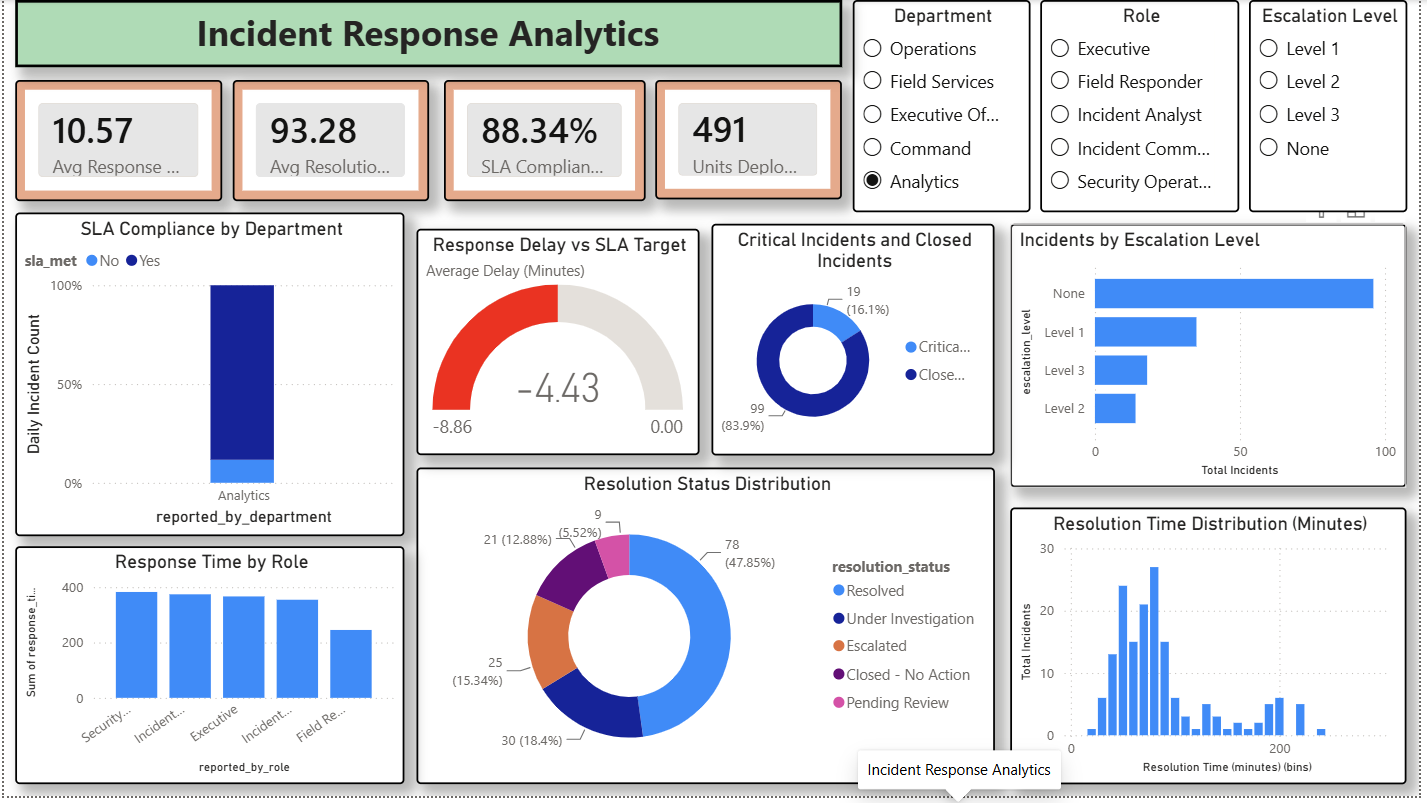

This screenshot's page, from the dashboard's own definition file:
{"tool":"powerbi","page":{"name":"Incident Response Analytics","canvas":[1280,720],"ordinal":5},"visuals":[{"type":"cardVisual","fields":{"Data":["_Measures.Avg Response Time"]},"box":[10.5,72.1,187.2,109.3],"z":0},{"type":"cardVisual","fields":{"Data":["_Measures.Avg Resolution Time"]},"box":[207,72.1,177.9,109.3],"z":1000},{"type":"cardVisual","fields":{"Data":["_Measures.SLA Compliance %"]},"box":[397.7,72.1,182.6,109.3],"z":2000},{"type":"cardVisual","fields":{"Data":["Sum(fact_response.units_deployed)"]},"box":[589.5,72.1,168.6,108.1],"z":3000},{"type":"hundredPercentStackedColumnChart","title":"SLA Compliance by Department","fields":{"Category":["fact_response.reported_by_department"],"Series":["fact_response.sla_met"],"Y":["_Measures.Daily Incident Count"]},"box":[10.5,191.9,352.3,293],"z":4000},{"type":"donutChart","title":"Resolution Status Distribution","fields":{"Category":["fact_response.resolution_status"],"Y":["_Measures.Total Incidents"]},"box":[373.3,423.3,523.3,286],"z":5000},{"type":"barChart","title":"Incidents by Escalation Level","fields":{"Category":["fact_response.escalation_level"],"Y":["_Measures.Total Incidents"]},"box":[910.5,202.3,358.1,238.4],"z":6000},{"type":"clusteredColumnChart","title":"Response Time by Role","fields":{"Category":["fact_response.reported_by_role"],"Y":["Sum(fact_response.response_time_minutes)"]},"box":[10.5,494.2,352.3,215.1],"z":7000},{"type":"gauge","title":"Response Delay vs SLA Target","fields":{"Y":["_Measures.Response Delay"]},"box":[373.3,207,255.8,204.7],"z":8000},{"type":"columnChart","title":"Resolution Time Distribution (Minutes)","fields":{"Category":["fact_response.Resolution Time (minutes) (bins)"],"Y":["_Measures.Total Incidents"]},"box":[910.5,459.3,358.1,250],"z":9000},{"type":"listSlicer","title":"Role","fields":{"Values":["fact_response.reported_by_role"]},"box":[937.2,0,180.2,191.9],"z":10000},{"type":"listSlicer","title":"Department ","fields":{"Values":["fact_response.reported_by_department"]},"box":[767.4,0,160.5,191.9],"z":11000},{"type":"listSlicer","title":"Escalation Level","fields":{"Values":["fact_response.escalation_level"]},"box":[1125.6,0,143,191.9],"z":12000},{"type":"textbox","box":[10.5,0,747.7,60.5],"z":13000},{"type":"donutChart","fields":{"Y":["_Measures.Critical Incidents","_Measures.Closed Incidents"]},"box":[639.5,202.3,255.8,209.3],"z":14000}]}

Visuals, with their boxes in screenshot pixels (x1, y1, x2, y2), scaled from the page's 1280x720 canvas onto the 1427x803 screenshot:
cardVisual - _Measures.Avg Response Time: bbox=[12, 80, 220, 202]
cardVisual - _Measures.Avg Resolution Time: bbox=[231, 80, 429, 202]
cardVisual - _Measures.SLA Compliance %: bbox=[443, 80, 647, 202]
cardVisual - Sum(fact_response.units_deployed): bbox=[657, 80, 845, 201]
"SLA Compliance by Department" hundredPercentStackedColumnChart: bbox=[12, 214, 404, 541]
"Resolution Status Distribution" donutChart: bbox=[416, 472, 1000, 791]
"Incidents by Escalation Level" barChart: bbox=[1015, 226, 1414, 492]
"Response Time by Role" clusteredColumnChart: bbox=[12, 551, 404, 791]
"Response Delay vs SLA Target" gauge: bbox=[416, 231, 701, 459]
"Resolution Time Distribution (Minutes)" columnChart: bbox=[1015, 512, 1414, 791]
"Role" listSlicer: bbox=[1045, 0, 1246, 214]
"Department " listSlicer: bbox=[856, 0, 1034, 214]
"Escalation Level" listSlicer: bbox=[1255, 0, 1414, 214]
textbox: bbox=[12, 0, 845, 67]
donutChart - _Measures.Critical Incidents x _Measures.Closed Incidents: bbox=[713, 226, 998, 459]
